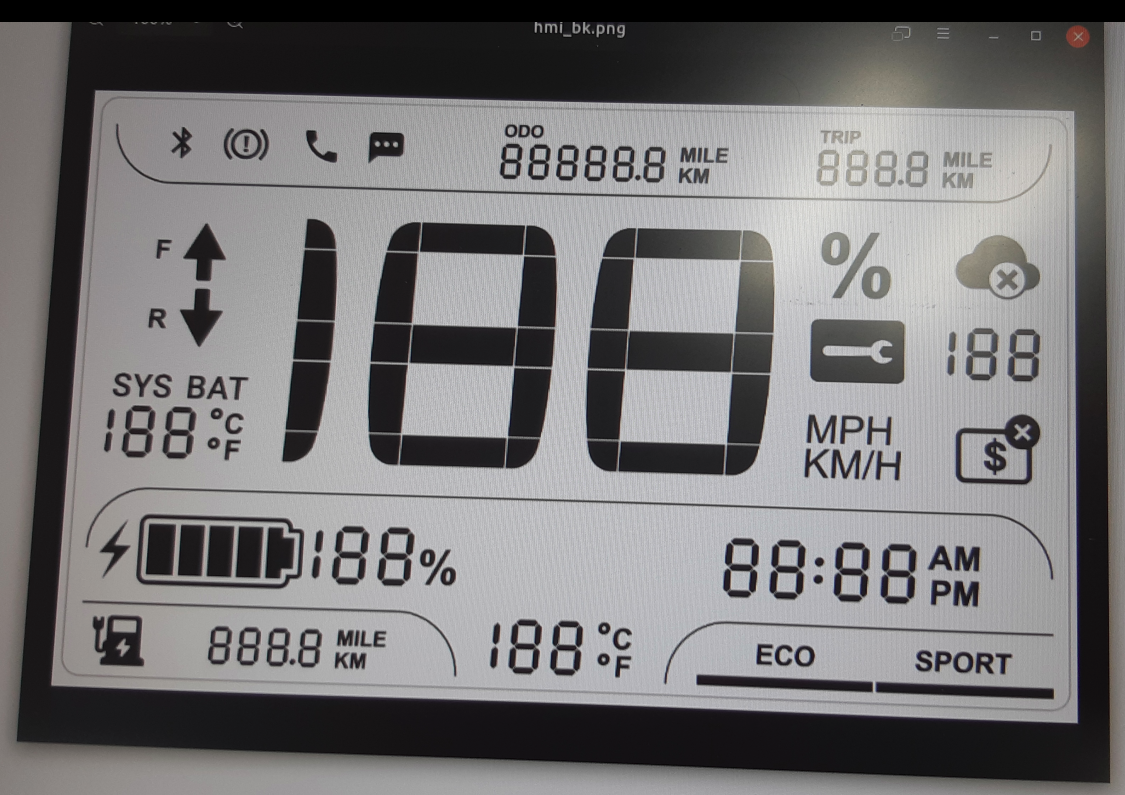bluetooth_on: (167, 123, 199, 161)
braking_on: (219, 124, 274, 164)
calling_on: (300, 126, 346, 166)
connection_lost: (952, 232, 1046, 302)
error_code: (806, 314, 910, 389)
low_battery: (87, 608, 153, 671)
sms_on: (364, 128, 407, 167)
vin_id: (951, 409, 1046, 487)
